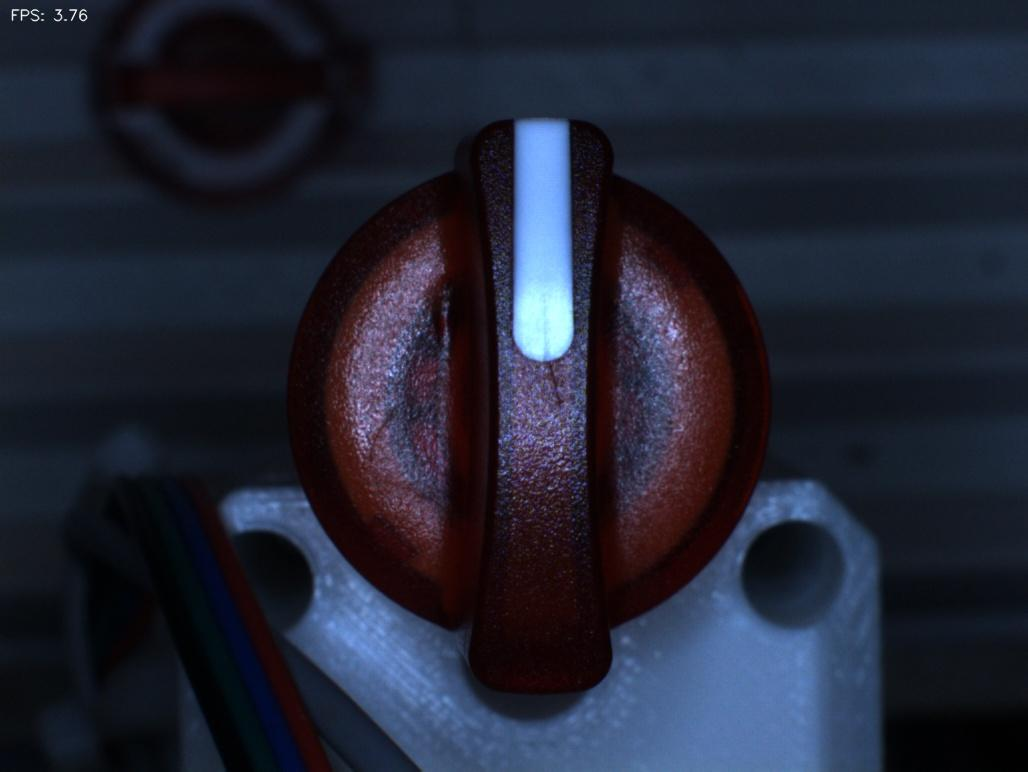Choc: (396, 258, 482, 363)
